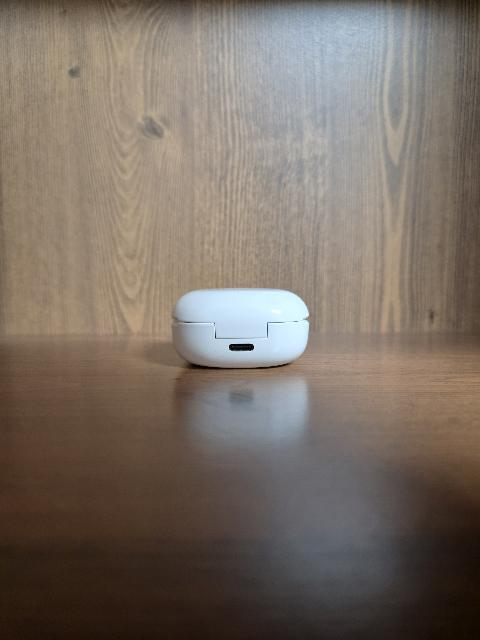earphone_case: (171, 288, 309, 368)
